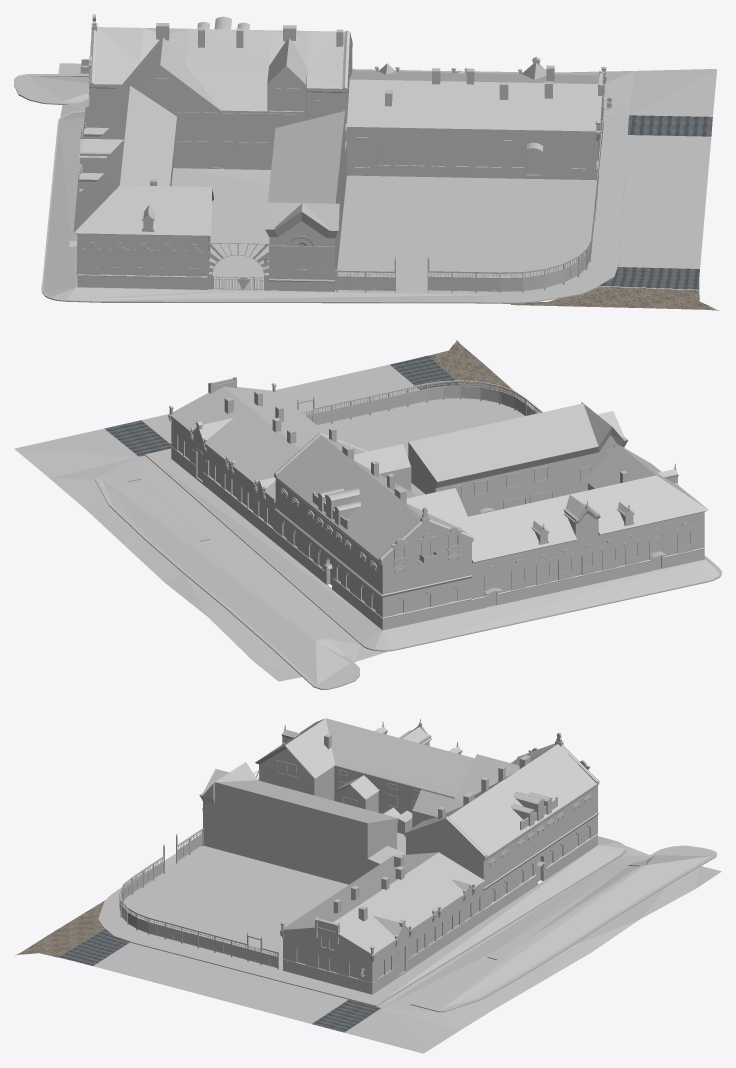
3 renders of one model, top to bottom at view 1: azimuth 30°, elevation 25°; view 2: azimuth 150°, elevation 25°; view 3: azimuth 270°, elevation 25°, orthographic. The views are drawn at different scales.
Parts seen in each view (by area): view 1: BLK01_ROAD, BLK01_YARD, BLK01_BLD04, BLK01_BLD02, BLK01_BLD01, BLK01_BLD03; view 2: BLK01_ROAD, BLK01_BLD02, BLK01_BLD01, BLK01_BLD03, BLK01_BLD04, BLK01_YARD; view 3: BLK01_ROAD, BLK01_BLD02, BLK01_BLD03, BLK01_BLD04, BLK01_BLD01, BLK01_YARD.
Boxes of the visible parts, box(x1,y1,x2,y2) form: BLK01_ROAD: box(14, 63, 719, 310); BLK01_YARD: box(171, 168, 595, 294); BLK01_BLD04: box(346, 56, 611, 179); BLK01_BLD02: box(80, 14, 352, 169); BLK01_BLD01: box(69, 38, 219, 289); BLK01_BLD03: box(207, 111, 598, 293); BLK01_ROAD: box(14, 340, 721, 689); BLK01_BLD02: box(274, 427, 473, 630); BLK01_BLD01: box(406, 444, 708, 610); BLK01_BLD03: box(297, 380, 628, 516); BLK01_BLD04: box(168, 377, 328, 542); BLK01_YARD: box(319, 399, 524, 457); BLK01_ROAD: box(15, 836, 721, 1053); BLK01_BLD02: box(402, 732, 599, 920); BLK01_BLD03: box(119, 762, 404, 969); BLK01_BLD04: box(280, 852, 484, 994); BLK01_BLD01: box(255, 718, 519, 834); BLK01_YARD: box(119, 827, 405, 970).
Bounding box in the file's own units: 90.13 × 16.27 × 92.07.
